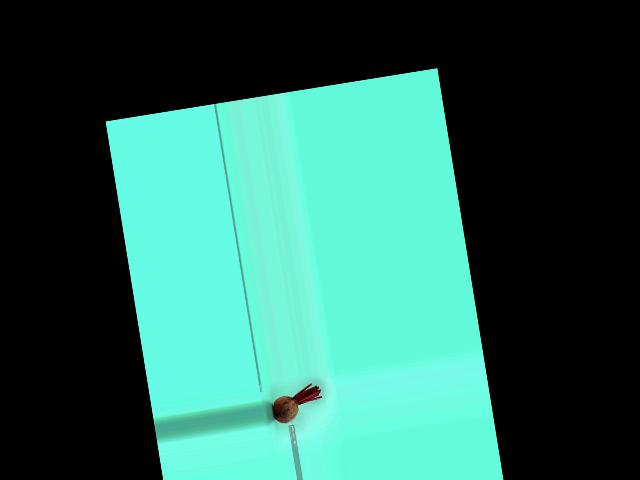beet: (269, 382, 324, 425)
